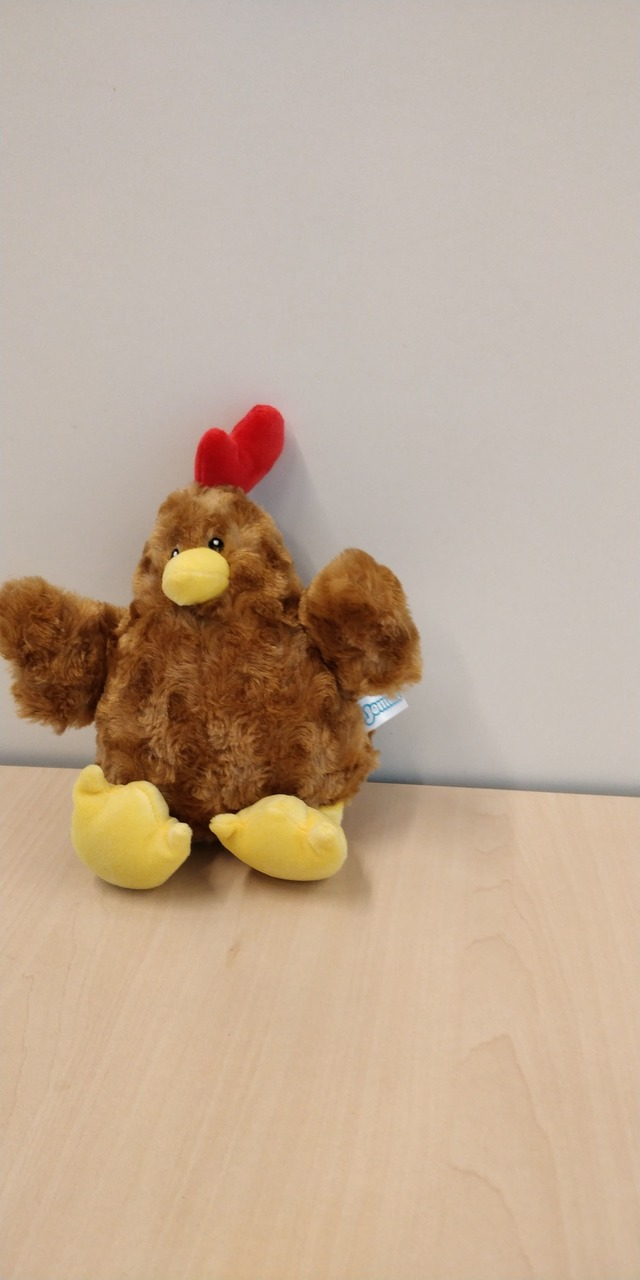fakeChicken: (1, 403, 423, 894)
